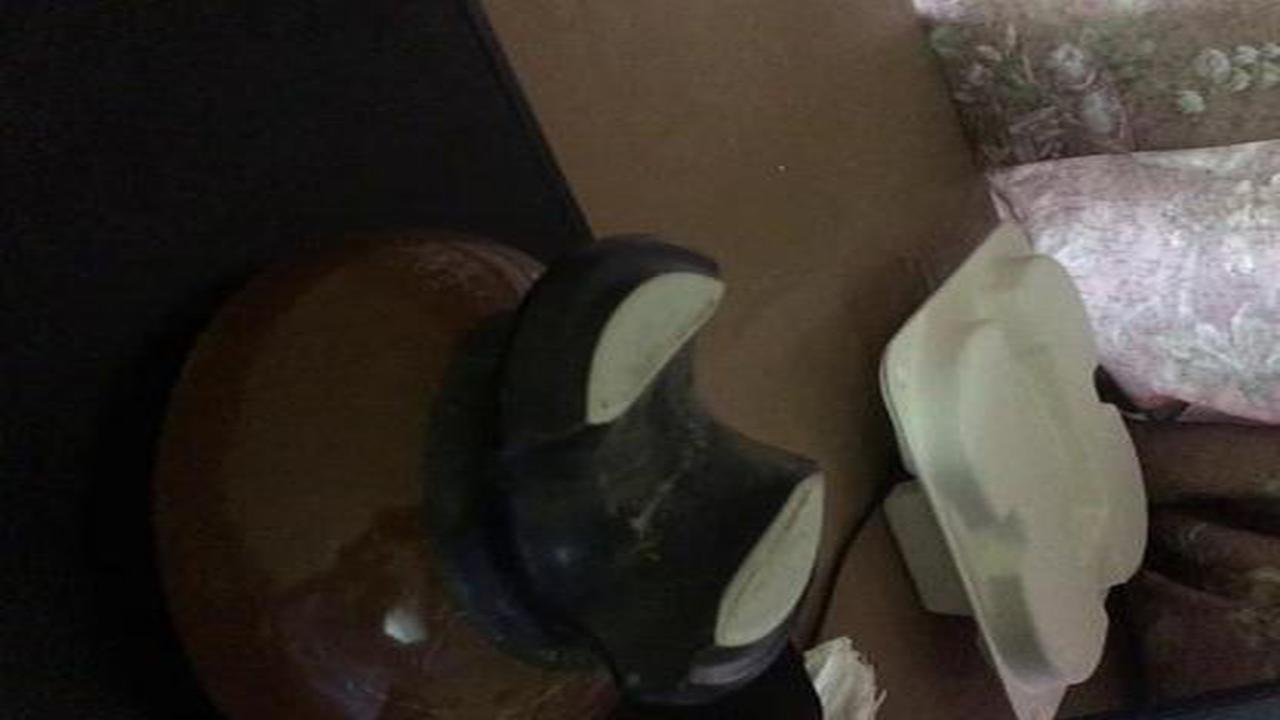insulator_pin: (108, 217, 853, 712)
